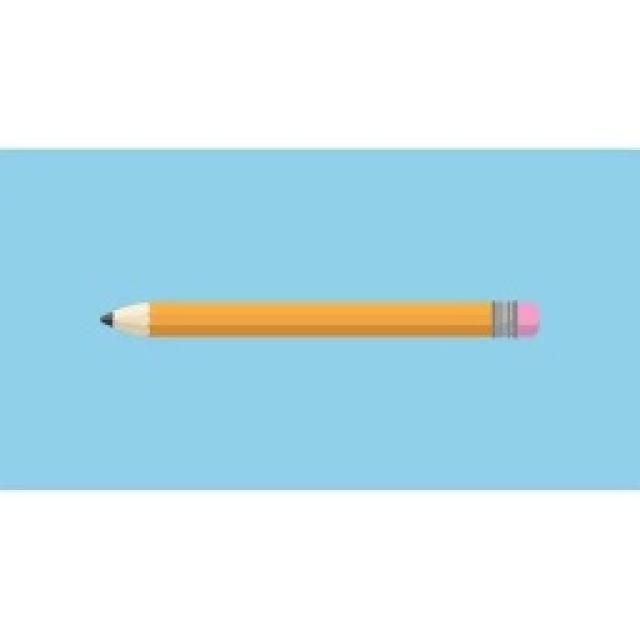pencil: (0, 142, 638, 490), (98, 295, 540, 343)
